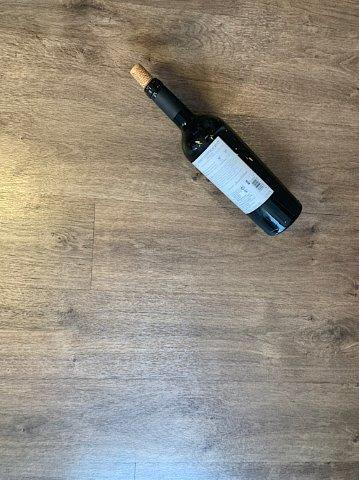botolkaca: (131, 65, 302, 235)
